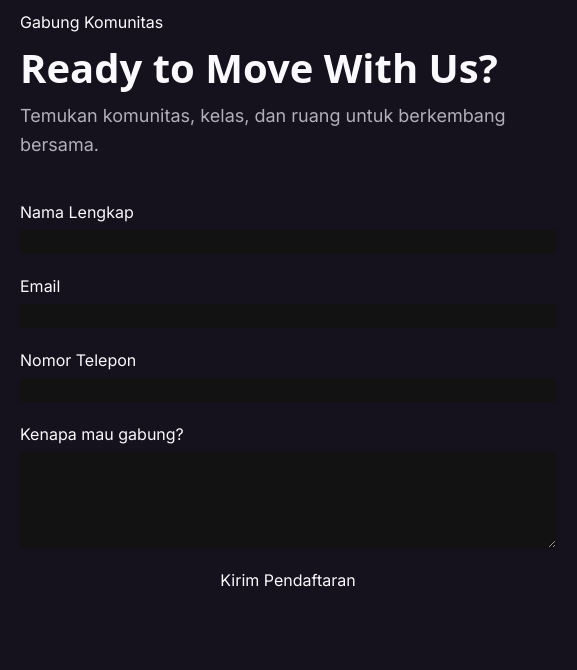
MembershipFormPage › shows validation errors and does not submit when required fields are invalid
The width and height of the screenshot is (577, 670).
Click the button "Kirim Pendaftaran": (288, 580) [20,568,556,592]
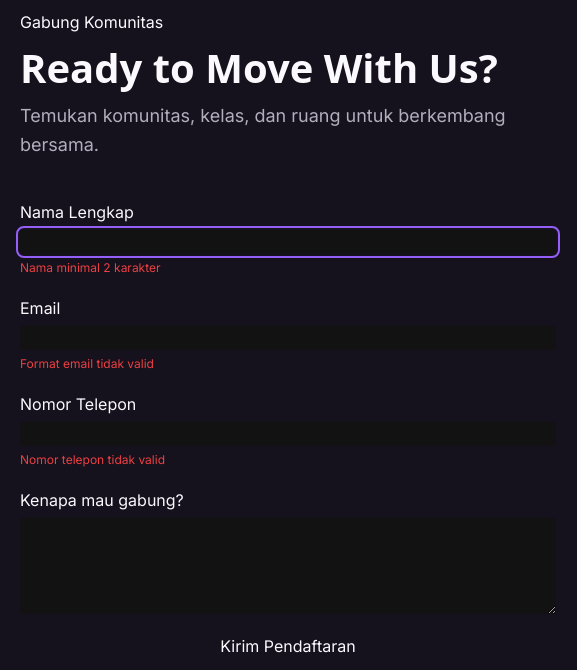
Now the text "Nama minimal 2 karakter" is shown, box [20,260,160,275]
Now the text "Format email tidak valid" is shown, box [20,356,154,371]
